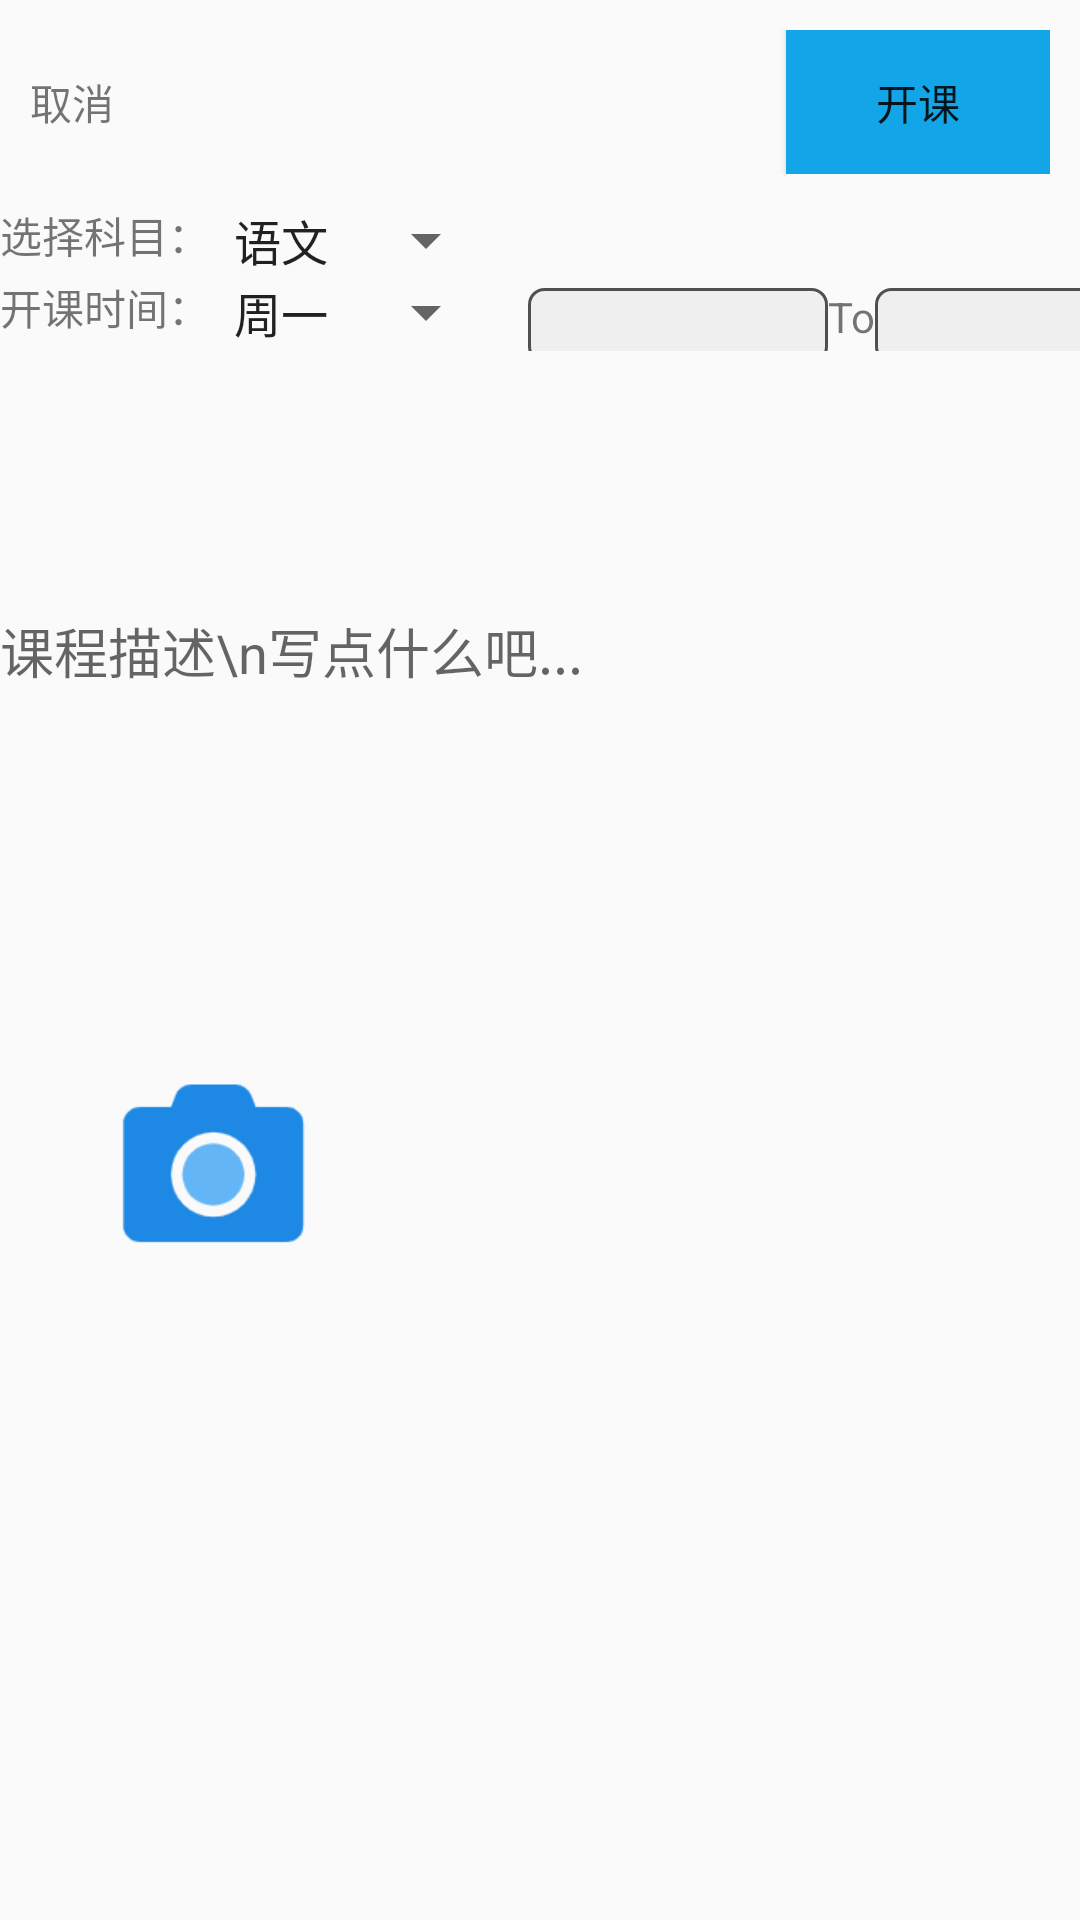

Named icons in this screenshot (1080 × 1920) and their centers, [x,y]:
camera: [213,1163]
